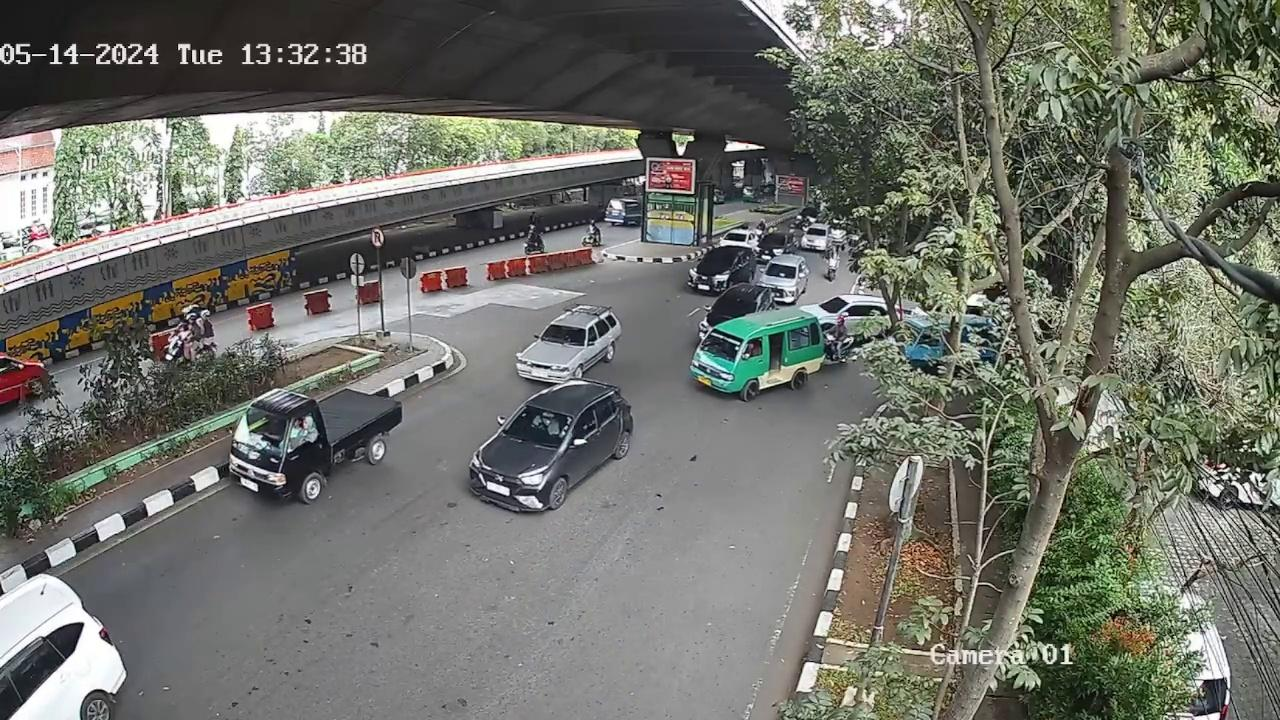pakai: (528, 411, 562, 436)
windshield: (501, 403, 577, 455), (231, 402, 309, 450), (543, 324, 594, 349)
